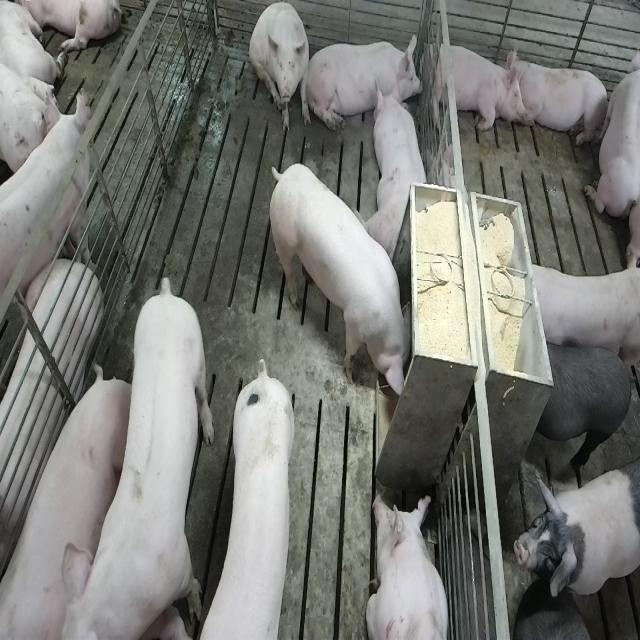Feeding: (264, 162, 411, 401)
Lateral_lying: (0, 370, 128, 640)
Sitting: (250, 2, 311, 134)
Standing: (62, 275, 213, 636), (203, 366, 297, 640), (0, 93, 90, 332), (512, 466, 638, 603), (531, 335, 637, 474), (521, 256, 637, 368), (513, 609, 606, 640)
Sternal_lying: (366, 489, 451, 640), (370, 82, 431, 263), (311, 32, 421, 130), (510, 51, 611, 150), (584, 34, 637, 222), (426, 37, 524, 134)
